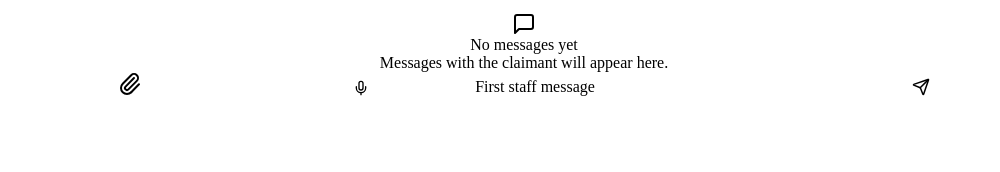
Conversation › explains the audio-capture voice failure without disabling text input
Click the button named "Use voice input" at {"x": 361, "y": 88}, box [248, 80, 475, 96]
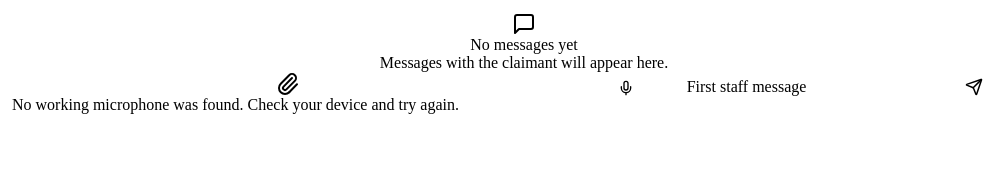
Expected: the text box named "Message to claimant" is enabled, [687, 78, 912, 96]
Result: the message reads "No working microphone was found. Check your device and try again." at [12, 96, 459, 113]
